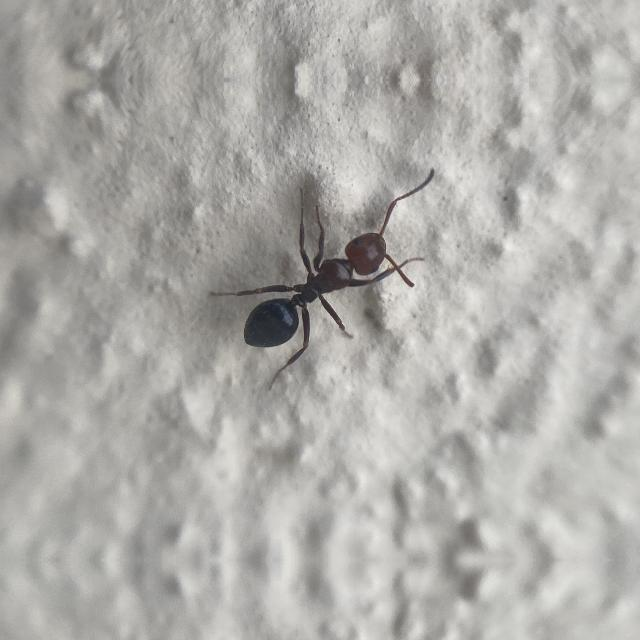Camponotus: (230, 208, 426, 364)
